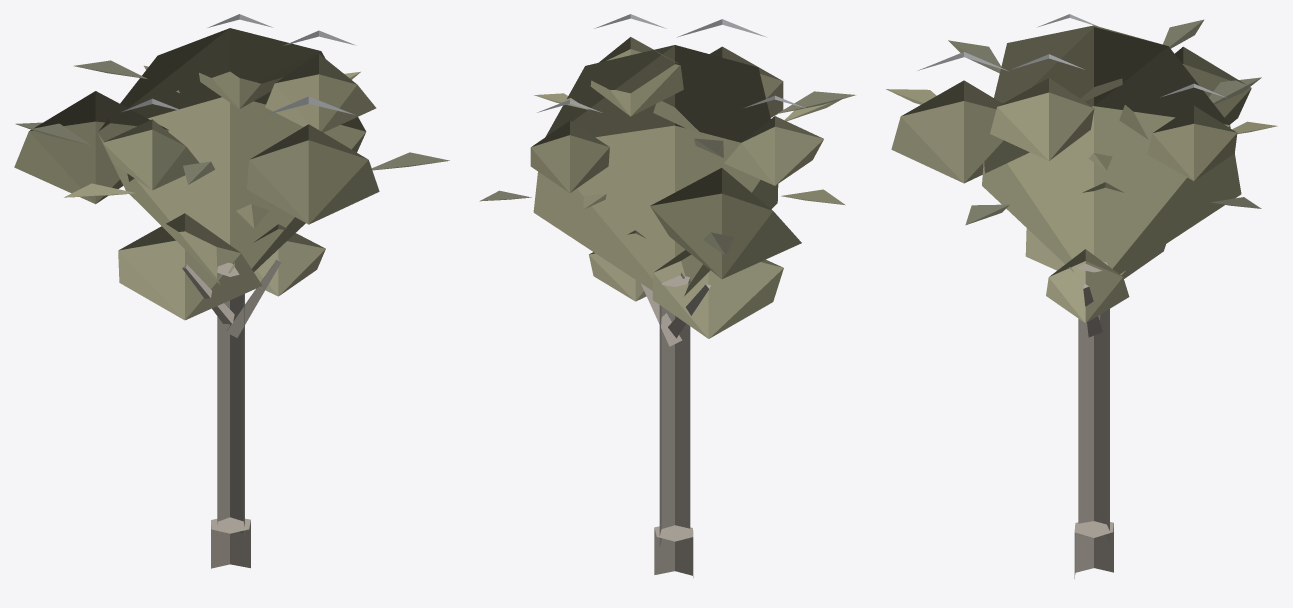
Rendered from shu.chuizhi__winter.glb.
The picture shows the model from 3 angles, left to right: view 1: azimuth 30°, elevation 25°; view 2: azimuth 150°, elevation 25°; view 3: azimuth 270°, elevation 25°; orthographic projection. The views are drawn at different scales.
Parts seen in each view (by area): view 1: shu.chuizhi__winter; view 2: shu.chuizhi__winter; view 3: shu.chuizhi__winter.
Boxes of the visible parts, bbox=[...] form: shu.chuizhi__winter: bbox=[14, 14, 449, 568]; shu.chuizhi__winter: bbox=[479, 14, 855, 577]; shu.chuizhi__winter: bbox=[886, 14, 1277, 578].
Size of the model in its own units: 6.6 by 10.36 by 6.62.
